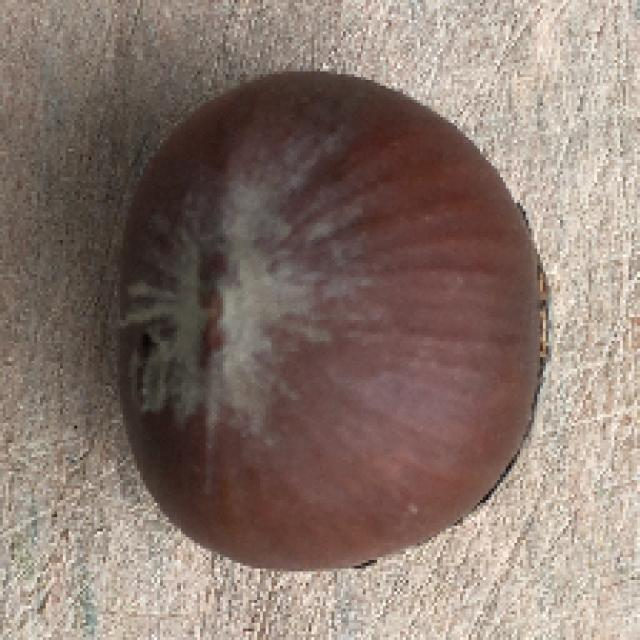damagedHazelnut: (117, 71, 546, 573)
